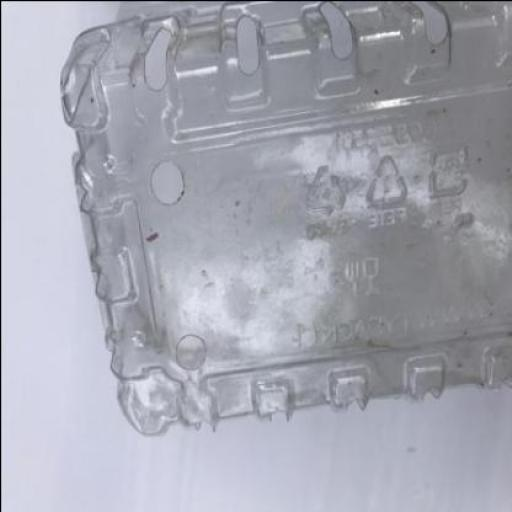plastic: (58, 1, 512, 436)
